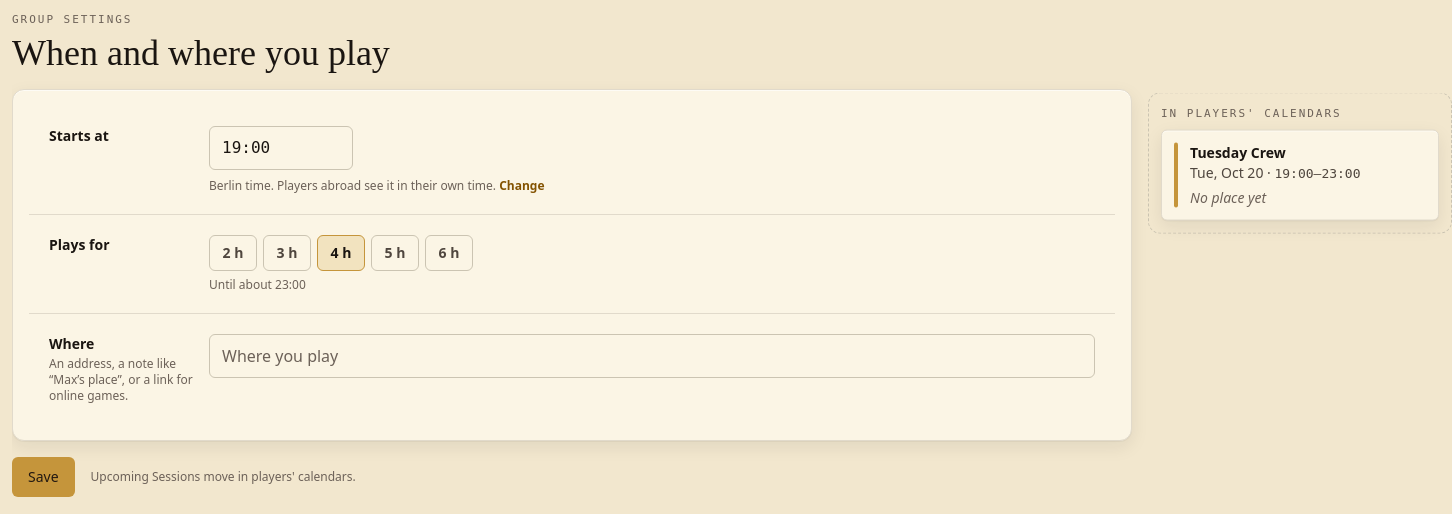
Test: TimeAndPlacePage › never lets the start time go empty
Clear the field labelled "Starts at" at (281, 148), box [209, 126, 353, 170]
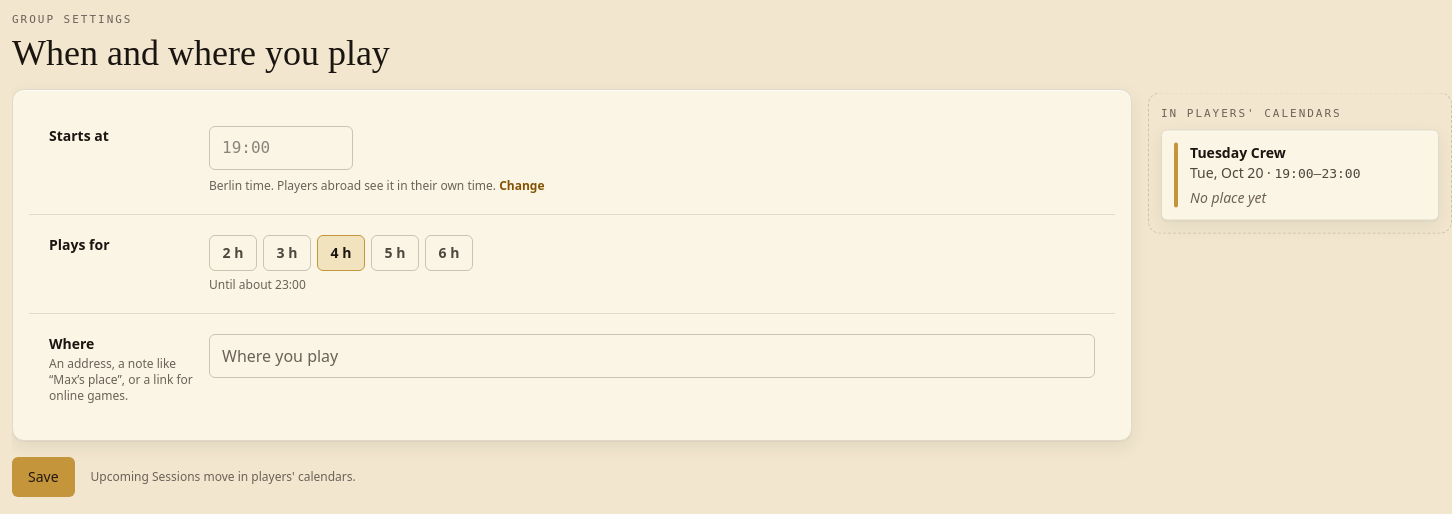
Leave the field labelled "Starts at", box [209, 126, 353, 170]
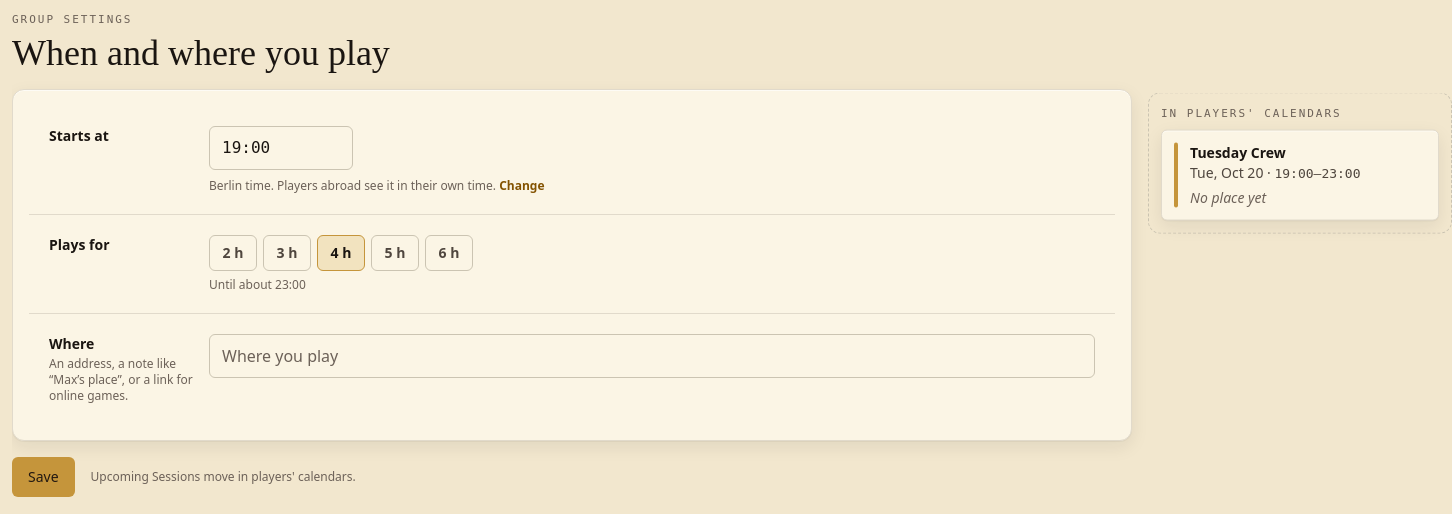
Check: the field labelled "Starts at" holds "19:00", box [209, 126, 353, 170]
